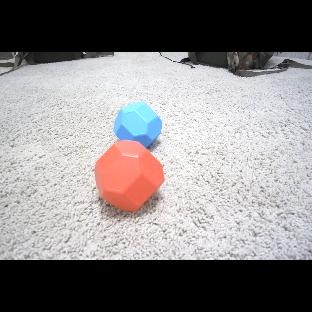V5_BLUE: (116, 102, 160, 143)
V5_RED: (94, 140, 164, 213)
